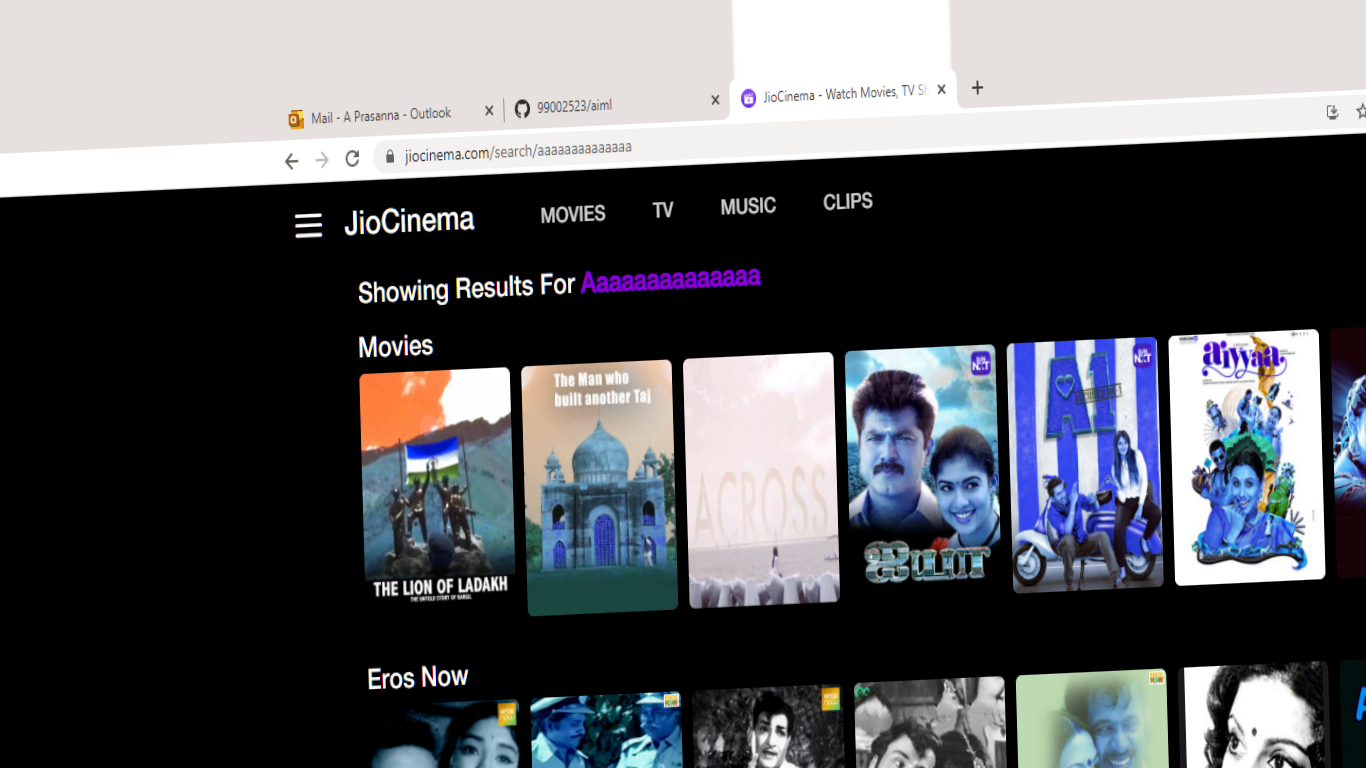noresultsfound: (351, 264, 768, 308)
